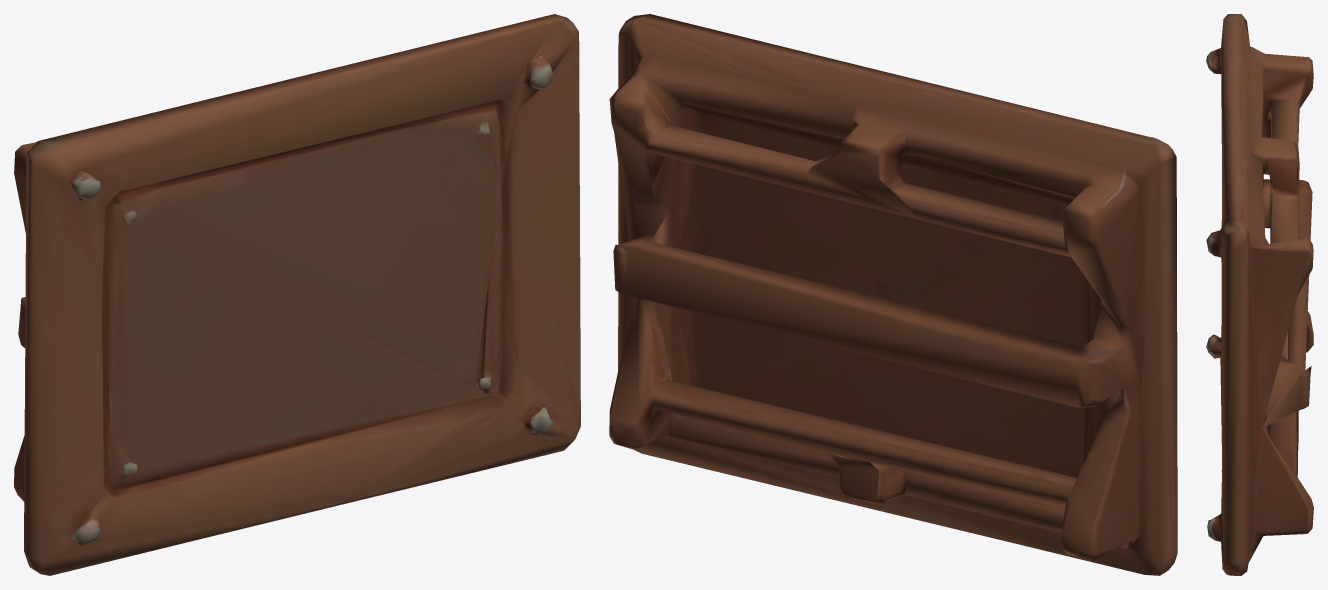
Rendered from block_used.glb.
3 renders of one model, left to right at view 1: azimuth 30°, elevation 25°; view 2: azimuth 150°, elevation 25°; view 3: azimuth 270°, elevation 25°, orthographic. The views are drawn at different scales.
Bounding box in the file's own units: 1.9 × 1.42 × 0.3912.
Materials: 1 (1 with a texture image).
